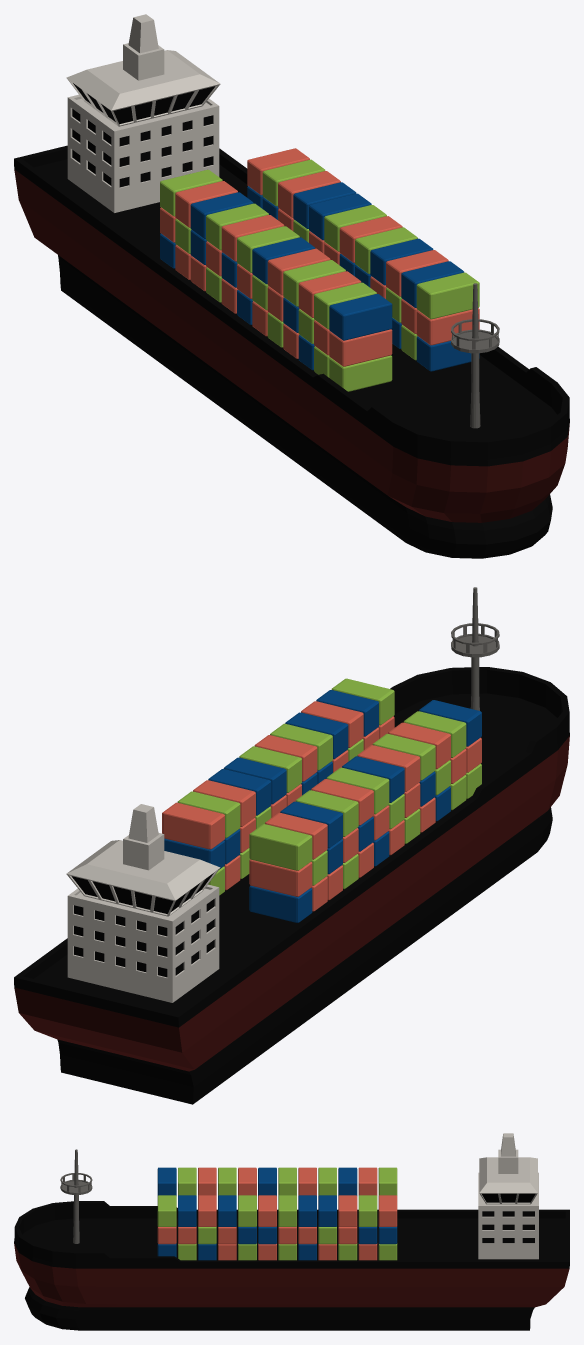
The model's file is Boat.fbx.
3 renders of one model, top to bottom at view 1: azimuth 30°, elevation 25°; view 2: azimuth 150°, elevation 25°; view 3: azimuth 270°, elevation 25°, orthographic. The views are drawn at different scales.
Visible parts, largest first — view 1: Ship base, Crates, Watch tower, Mast; view 2: Ship base, Crates, Watch tower, Mast; view 3: Ship base, Crates, Watch tower, Mast.
Part boxes in pixels (x1,y1,x2,y2): Ship base: (14, 145, 569, 558); Crates: (160, 148, 479, 391); Watch tower: (66, 14, 220, 212); Mast: (451, 283, 499, 428); Ship base: (14, 667, 569, 1104); Crates: (162, 678, 481, 922); Watch tower: (66, 804, 220, 1002); Mast: (451, 587, 499, 710); Ship base: (14, 1201, 569, 1330); Crates: (157, 1167, 397, 1260); Watch tower: (478, 1133, 538, 1259); Mast: (60, 1149, 92, 1243).
Bounding box in the file's own units: 224 × 348 × 1005.
